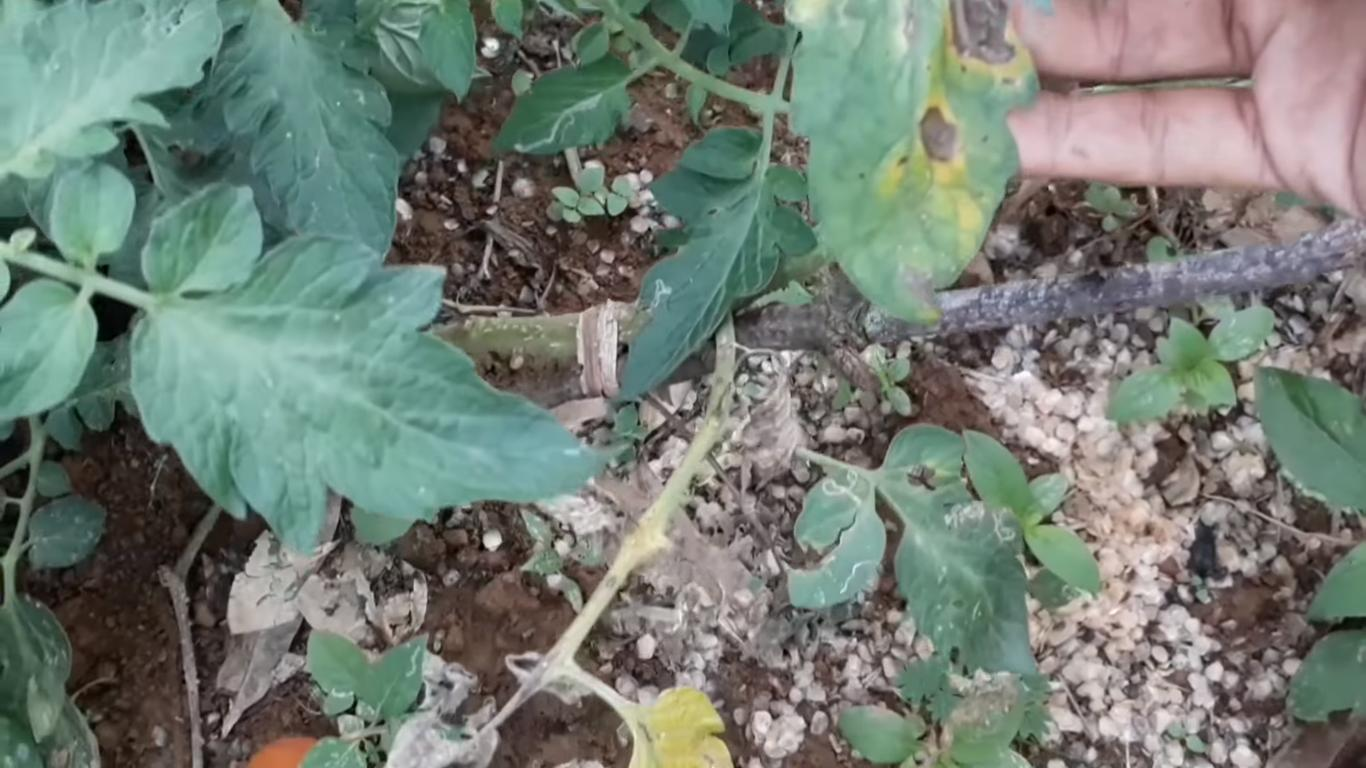Leaf_Miner: (604, 126, 819, 403), (885, 421, 1043, 676), (787, 467, 888, 610), (496, 55, 636, 154)
